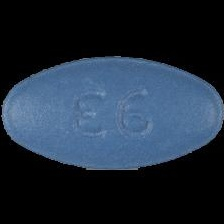33261-044: (0, 0, 224, 224)
